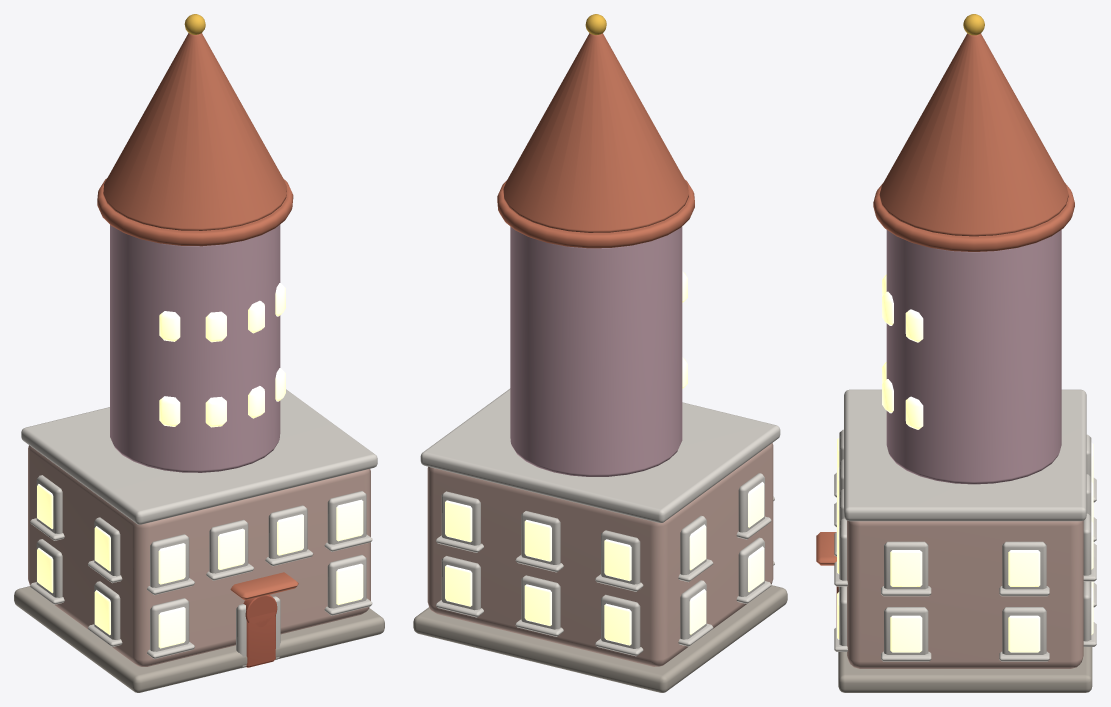
3 views of the same model, side by side, from view 1: azimuth 30°, elevation 25°; view 2: azimuth 150°, elevation 25°; view 3: azimuth 270°, elevation 25° (orthographic). The views are drawn at different scales.
Visible parts, largest first — view 1: Cube; view 2: Cube; view 3: Cube.
Boxes of the visible parts, x1,y1,x2,y2 form: Cube: [14, 14, 384, 692]; Cube: [413, 14, 787, 692]; Cube: [816, 14, 1096, 692].
Size of the model in its own units: 0.699 by 1.56 by 0.6395.
